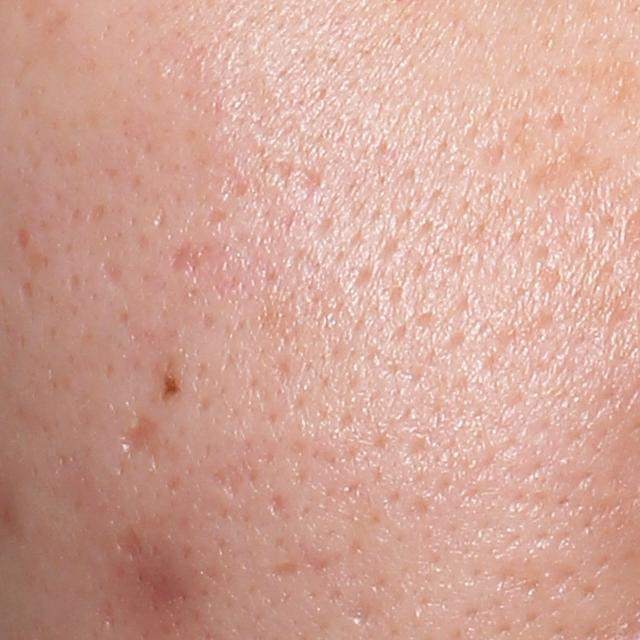atrophic_scar: (526, 152, 580, 192), (212, 461, 249, 500), (290, 165, 322, 210), (101, 258, 129, 286), (118, 528, 142, 554), (351, 601, 370, 624), (271, 494, 284, 518), (22, 282, 34, 304)
